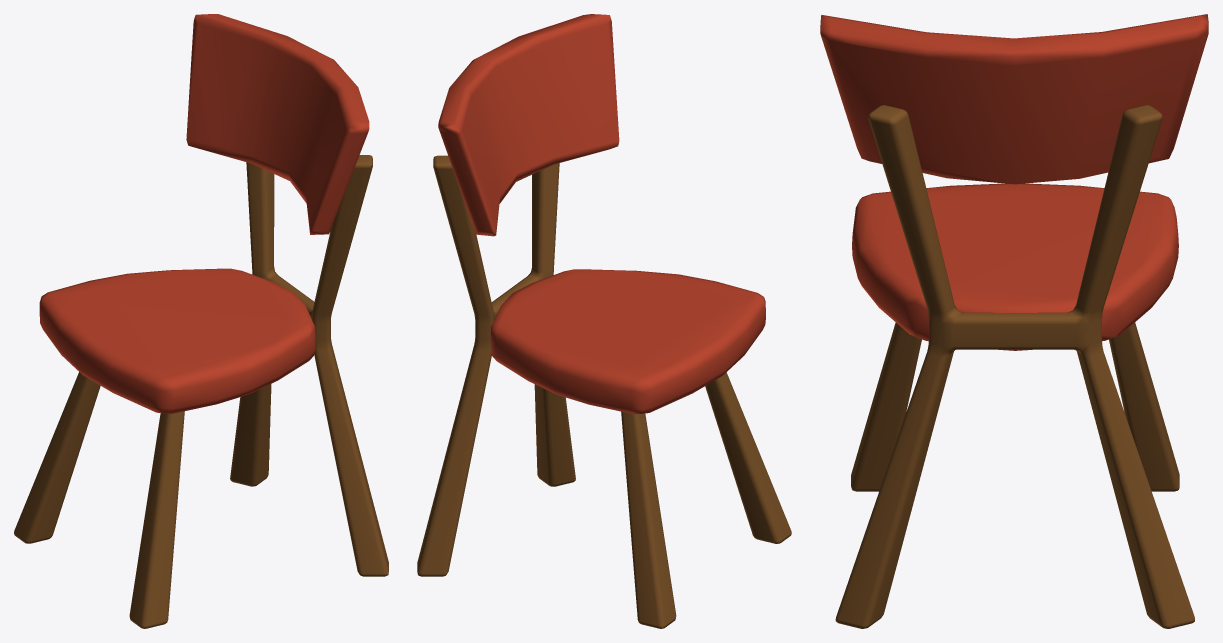
The model's file is chair_03_red.fbx.
3 renders of one model, left to right at view 1: azimuth 30°, elevation 25°; view 2: azimuth 150°, elevation 25°; view 3: azimuth 270°, elevation 25°, orthographic. The views are drawn at different scales.
Visible parts, largest first — view 1: chair_03_red; view 2: chair_03_red; view 3: chair_03_red.
Boxes of the visible parts, left/top/right/bottom form: chair_03_red: left=14, top=14, right=388, bottom=628; chair_03_red: left=417, top=14, right=791, bottom=628; chair_03_red: left=820, top=14, right=1208, bottom=628.
Bounding box in the file's own units: 58.11 × 101 × 60.72.
Materials: 1 (1 with a texture image).
